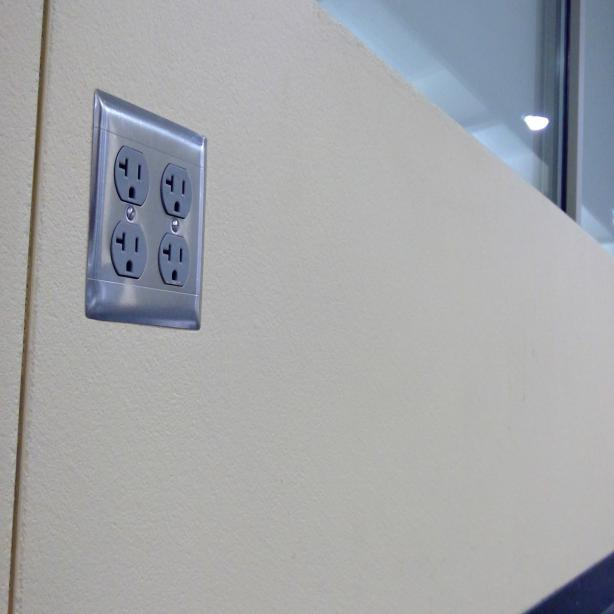typeb: (113, 142, 152, 209), (111, 216, 150, 282), (154, 226, 194, 288), (158, 155, 193, 218)
